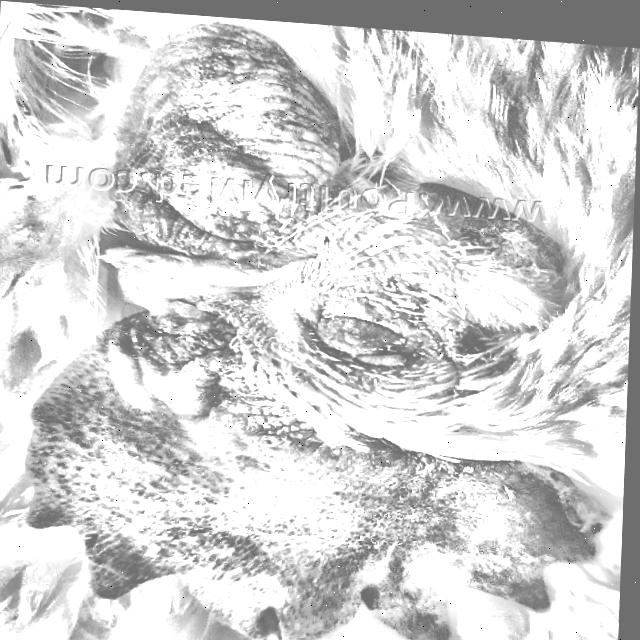Infectios bronchitis: (110, 24, 514, 467)
